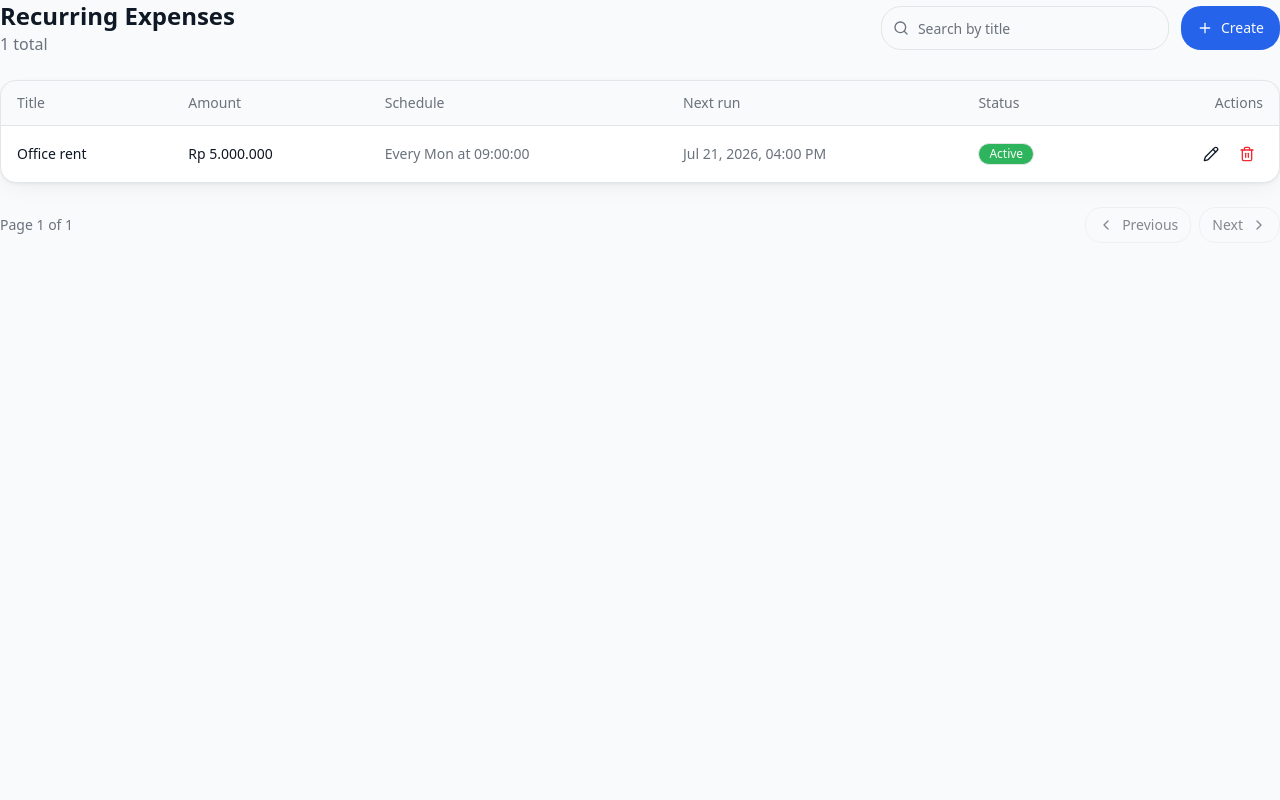
Test case: AdminRecurringExpensesPage › opens create dialog when Create is clicked
Expected: the text "Office rent" is shown, [17,144,86,164]
Click the button "Create": (1230, 28) [1181,6,1279,50]
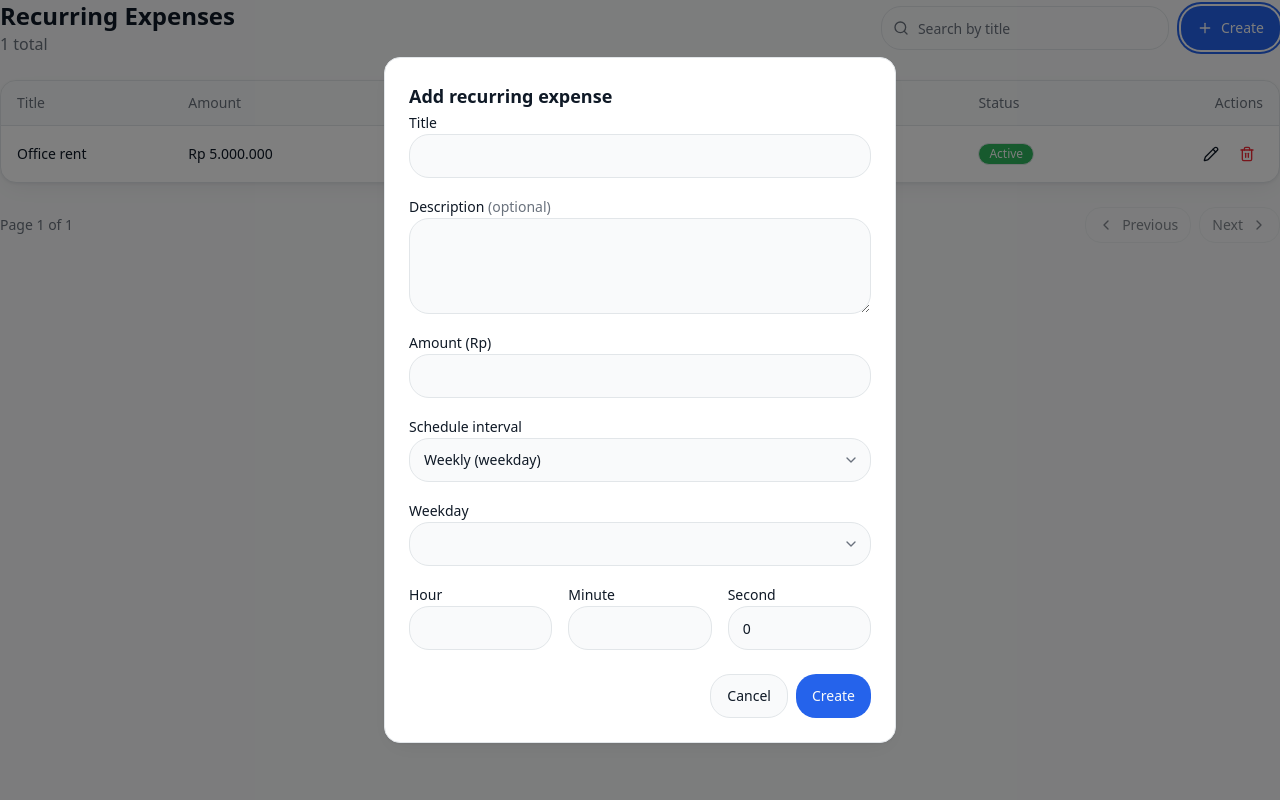
Expected: the dialog is shown, [384,57,896,743]
Expected: the heading "Add recurring expense" is shown, [409,84,612,108]
Expected: the field labelled "Title" is shown, [409,134,871,178]
